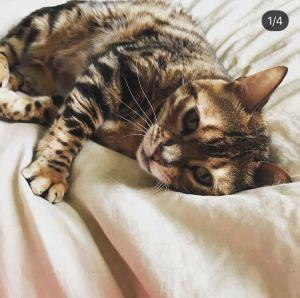bengal: (126, 51, 300, 208)
